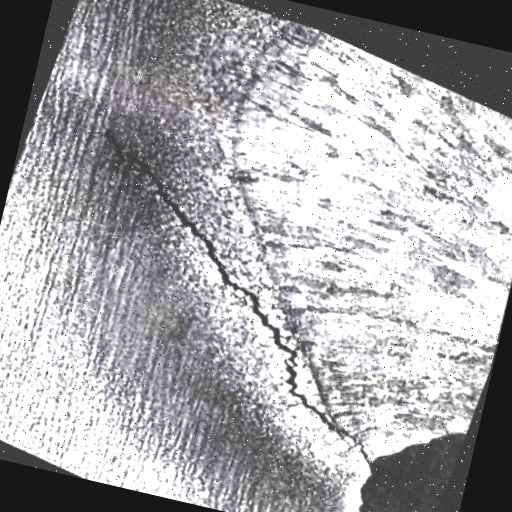crack: (8, 104, 476, 487)
